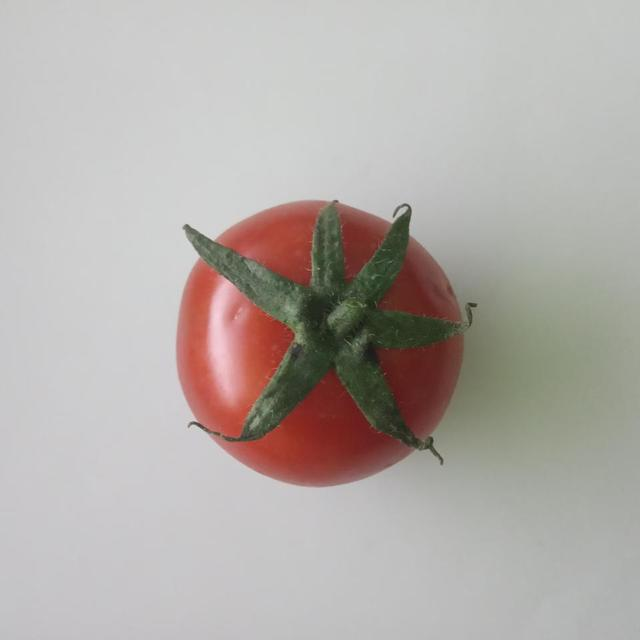Healthy Fruit: (108, 127, 319, 328)
